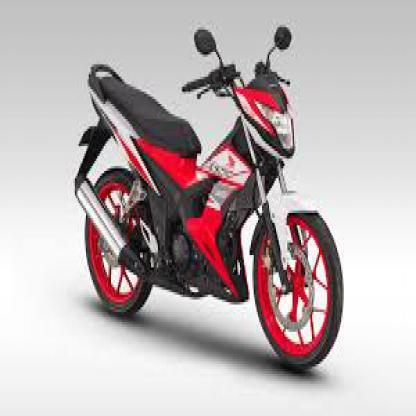Motorcycle: (71, 17, 345, 373)
